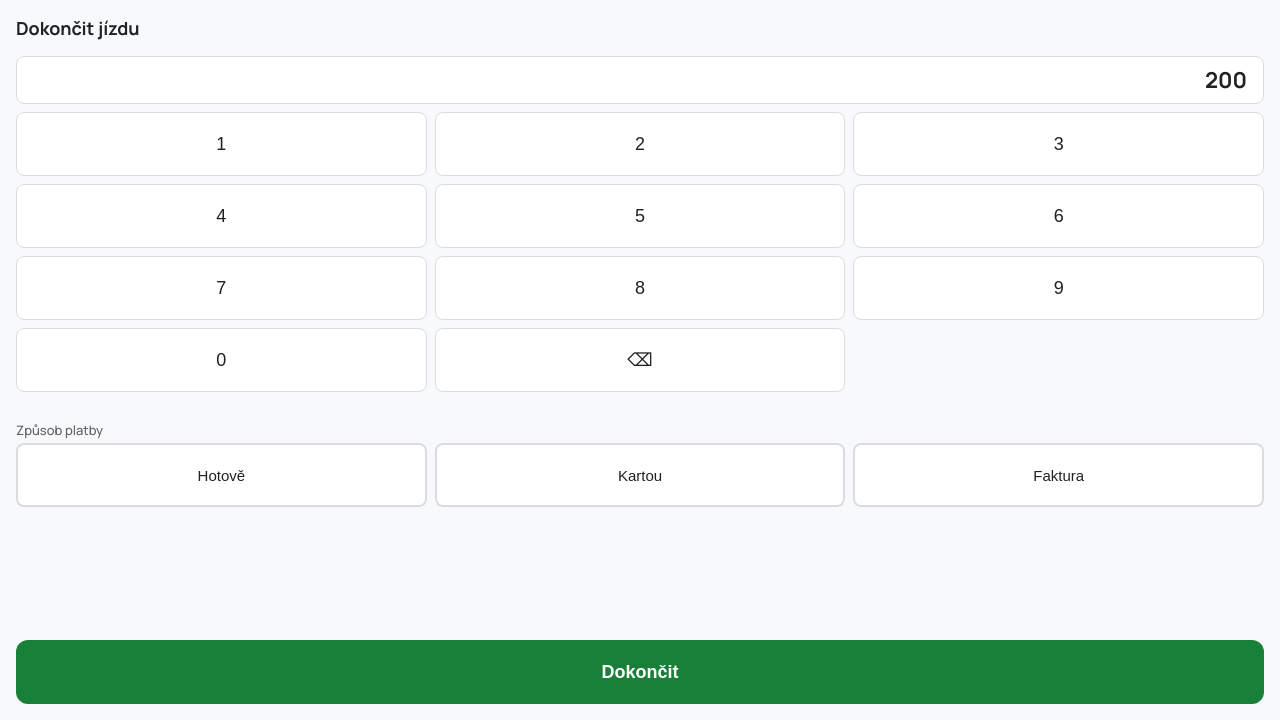
it: CompletePage › blocks complete until a payment type is chosen
The image size is (1280, 720).
Step 1. Click the button "Dokončit" → (640, 672), box [16,640,1264,704]
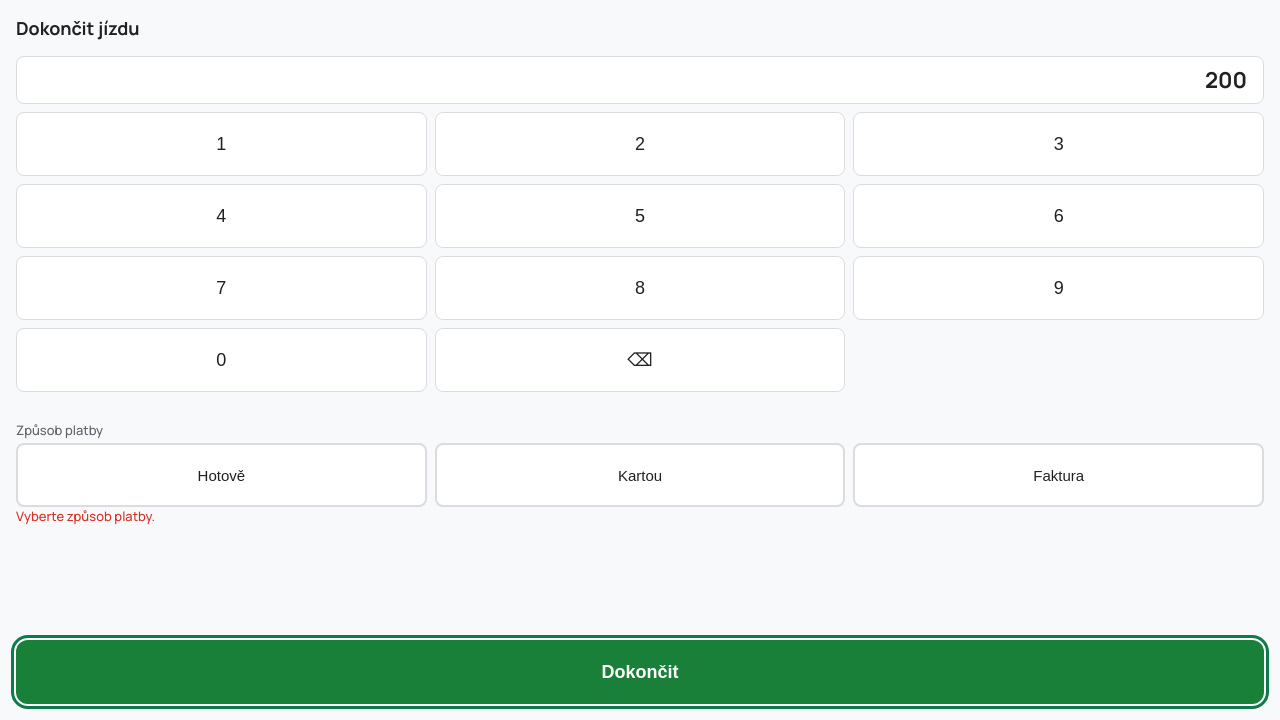
Now the text "Vyberte způsob platby." is shown, box [16,507,155,525]
